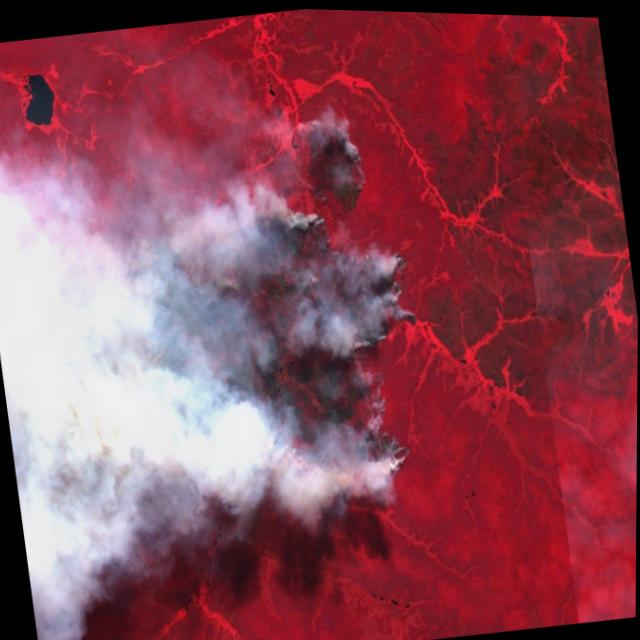fire: (80, 97, 447, 520)
